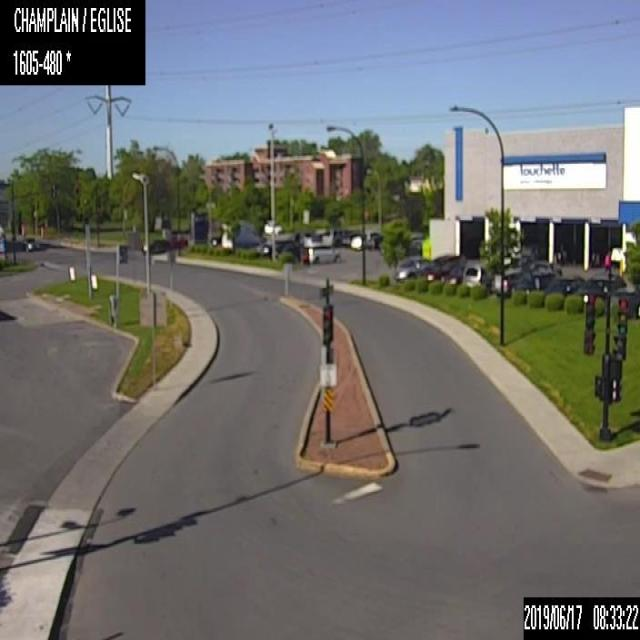pedestrian: (604, 249, 611, 272)
vehicle: (491, 258, 561, 296), (577, 273, 626, 297), (221, 220, 260, 250), (607, 286, 639, 319), (462, 261, 493, 292), (420, 254, 463, 276), (392, 258, 428, 281), (544, 275, 585, 295), (301, 243, 340, 262), (428, 261, 460, 282), (274, 240, 302, 260), (139, 238, 170, 254), (256, 237, 280, 254), (165, 232, 188, 248), (302, 229, 321, 245), (341, 231, 362, 245), (364, 230, 378, 246), (368, 234, 382, 247), (23, 236, 35, 249), (350, 236, 362, 248), (210, 232, 221, 245)
